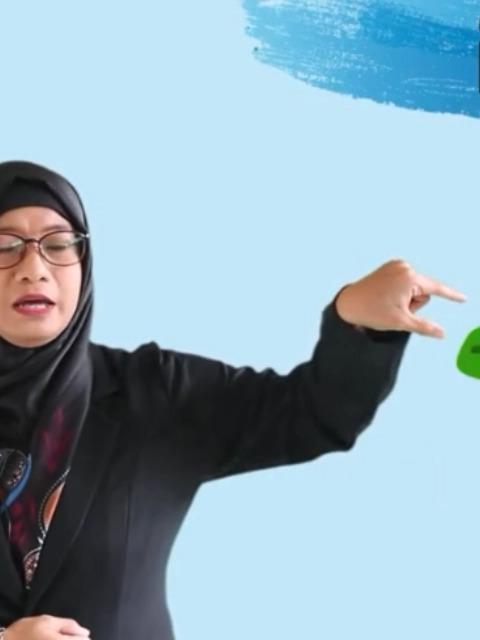G: (336, 254, 470, 346)
